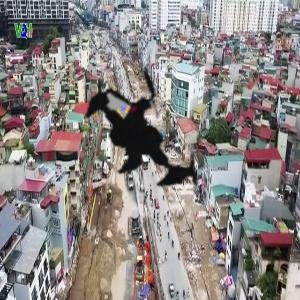drone: (49, 29, 254, 234)
